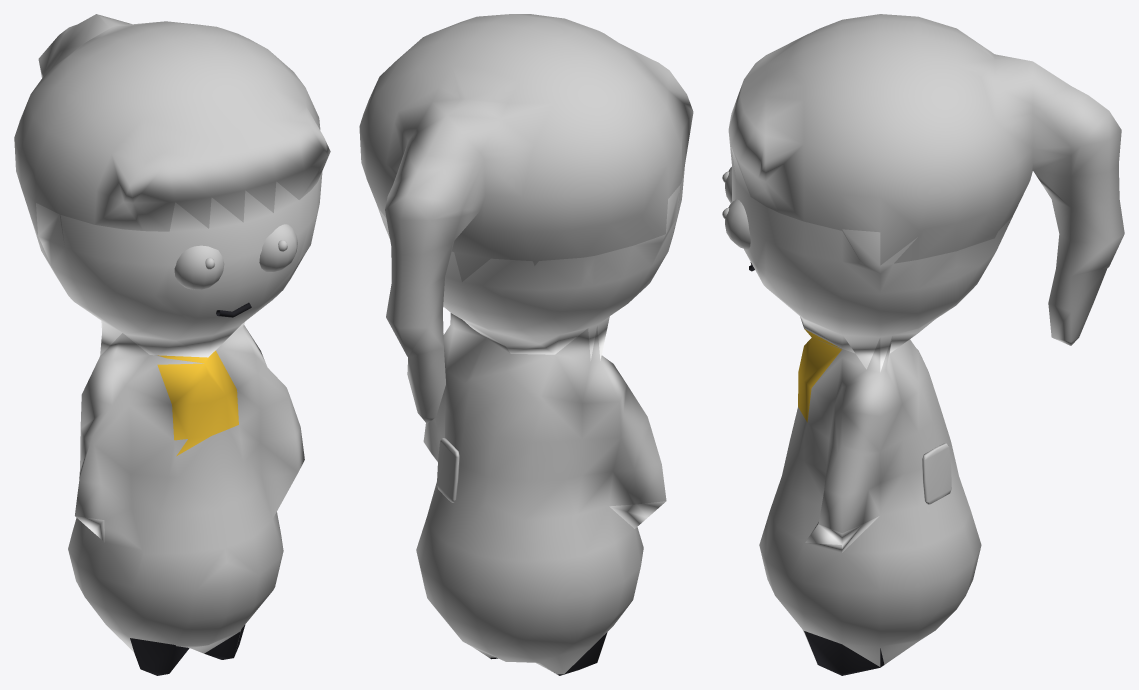
Rendered from idol_girl_d_lod.fbx.
3 renders of one model, left to right at view 1: azimuth 30°, elevation 25°; view 2: azimuth 150°, elevation 25°; view 3: azimuth 270°, elevation 25°, orthographic. The views are drawn at different scales.
Parts seen in each view (by area): view 1: idol_girl_d_lod; view 2: idol_girl_d_lod; view 3: idol_girl_d_lod.
Part boxes in pixels (box(x1,y1,x2,y2)): idol_girl_d_lod: box(14, 14, 330, 675); idol_girl_d_lod: box(359, 14, 693, 675); idol_girl_d_lod: box(722, 14, 1124, 675).
Bounding box in the file's own units: 0.575 × 1.24 × 0.7241.
